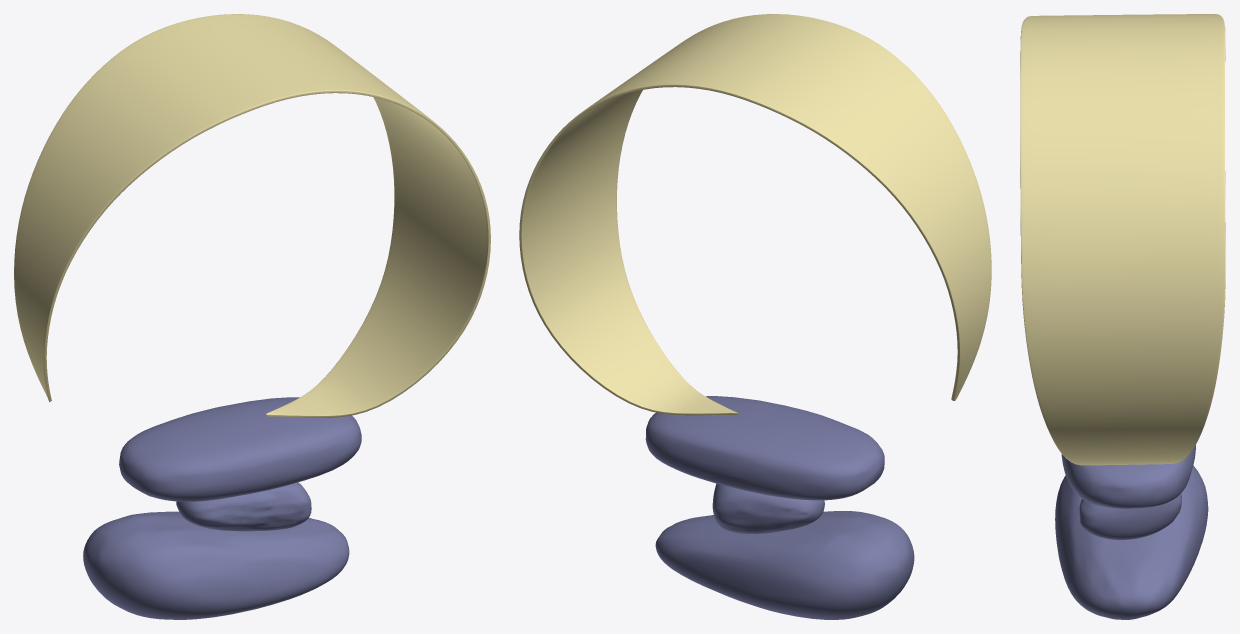
Rendered from sculpture3.glb.
3 views of the same model, side by side, from view 1: azimuth 30°, elevation 25°; view 2: azimuth 150°, elevation 25°; view 3: azimuth 270°, elevation 25° (orthographic). The views are drawn at different scales.
Parts seen in each view (by area): view 1: metalbombillo, piedramorada.003, piedramorada.004, piedramorada.005; view 2: metalbombillo, piedramorada.003, piedramorada.004, piedramorada.005; view 3: metalbombillo, piedramorada.003, piedramorada.004, piedramorada.005.
Part boxes in pixels (x1,y1,x2,y2): metalbombillo: (14, 14, 490, 417); piedramorada.003: (83, 511, 349, 619); piedramorada.004: (119, 397, 361, 501); piedramorada.005: (176, 482, 311, 531); metalbombillo: (519, 14, 991, 415); piedramorada.003: (655, 511, 914, 619); piedramorada.004: (645, 396, 884, 500); piedramorada.005: (712, 483, 824, 534); metalbombillo: (1020, 14, 1225, 465); piedramorada.003: (1055, 465, 1208, 619); piedramorada.004: (1061, 445, 1195, 508); piedramorada.005: (1079, 493, 1181, 539).
Size of the model in its own units: 0.3038 by 0.3797 by 0.1294.
